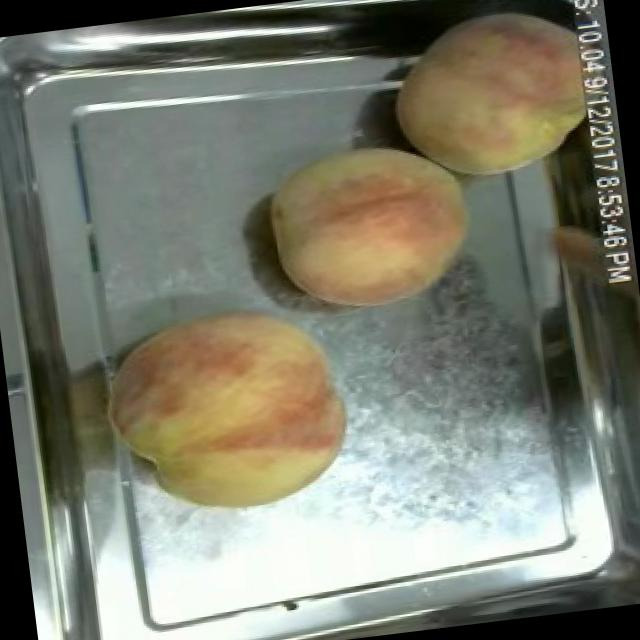Fruit: (92, 288, 363, 536), (252, 120, 488, 326), (377, 0, 596, 195)
